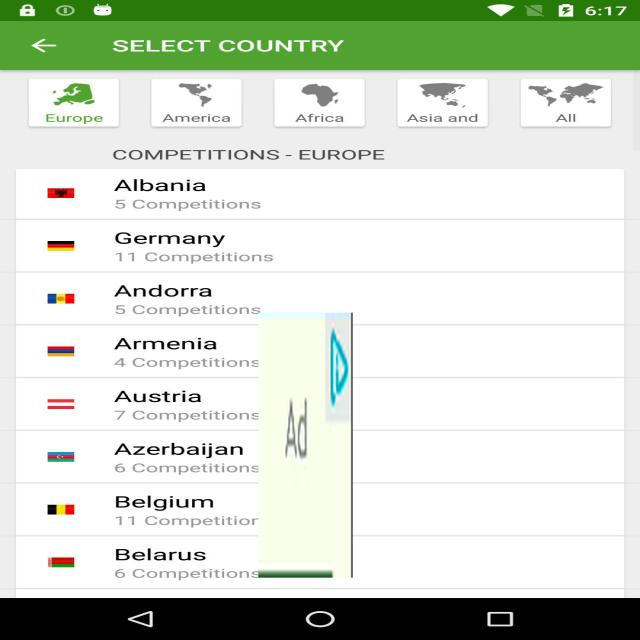sneaking: (258, 312, 352, 578)
